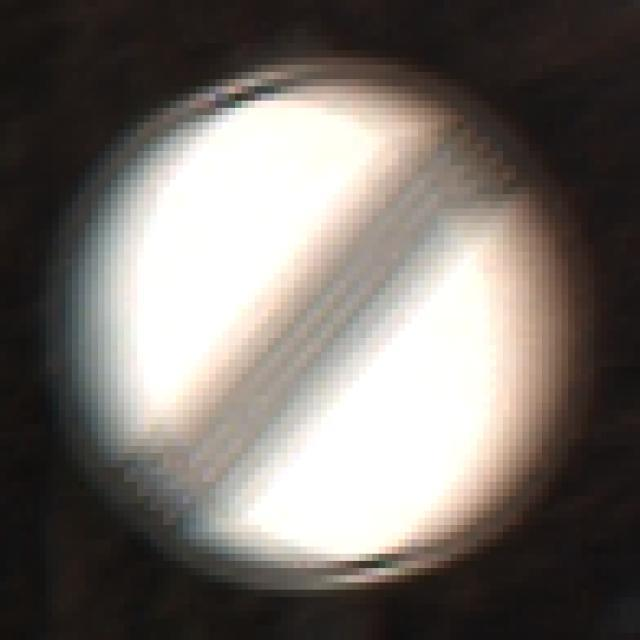restriction ends: (48, 58, 575, 592)
